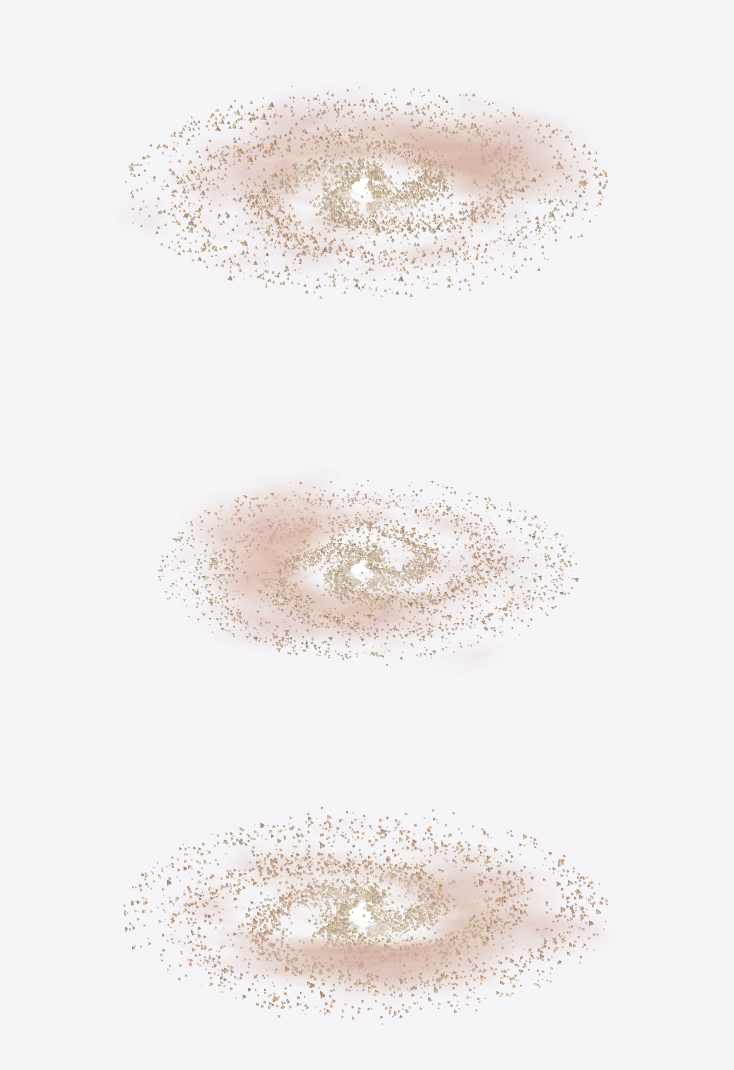
File: galaxy_2025.glb
3 renders of one model, top to bottom at view 1: azimuth 30°, elevation 25°; view 2: azimuth 150°, elevation 25°; view 3: azimuth 270°, elevation 25°, orthographic. The views are drawn at different scales.
Visible parts, largest first — view 1: StarPoints, Veil4, Veil1, Veil3, Veil2, Veil0; view 2: StarPoints, Veil4, Veil1, Veil3, Veil2, Veil0; view 3: StarPoints, Veil4, Veil1, Veil2, Veil3, Veil0, CoreGlow.
Boxes of the visible parts, <box> form: StarPoints: <box>124,86,607,298</box>; Veil4: <box>275,107,581,260</box>; Veil1: <box>264,115,554,251</box>; Veil3: <box>190,142,380,263</box>; Veil2: <box>210,138,481,224</box>; Veil0: <box>300,160,432,215</box>; StarPoints: <box>158,480,578,666</box>; Veil4: <box>196,486,467,637</box>; Veil1: <box>208,502,447,637</box>; Veil3: <box>309,551,518,637</box>; Veil2: <box>216,520,401,634</box>; Veil0: <box>309,547,424,588</box>; StarPoints: <box>123,806,607,1024</box>; Veil4: <box>191,897,579,986</box>; Veil1: <box>208,907,566,979</box>; Veil2: <box>364,871,525,995</box>; Veil3: <box>245,855,532,918</box>; Veil0: <box>300,878,433,940</box>; CoreGlow: <box>349,902,384,926</box>.
Bounding box in the file's own units: 11.99 × 1.16 × 12.03.
Materials: 7 (5 with a texture image).
